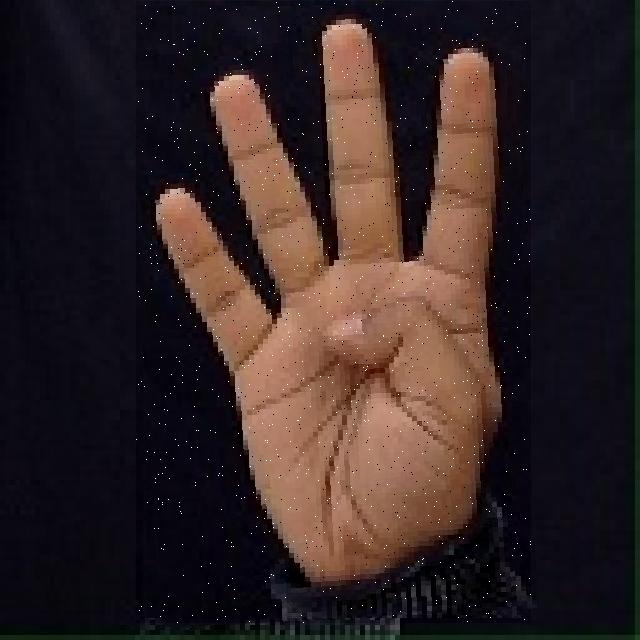Thanks: (136, 1, 531, 623)
